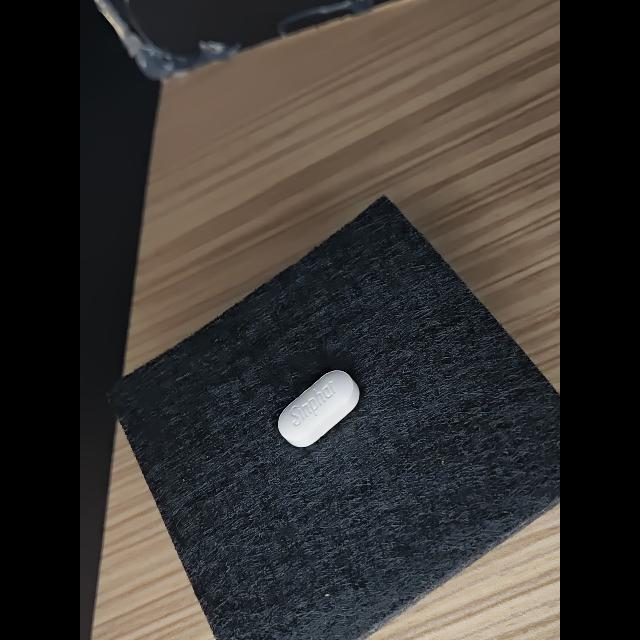Intact Pill: (278, 370, 360, 447)
